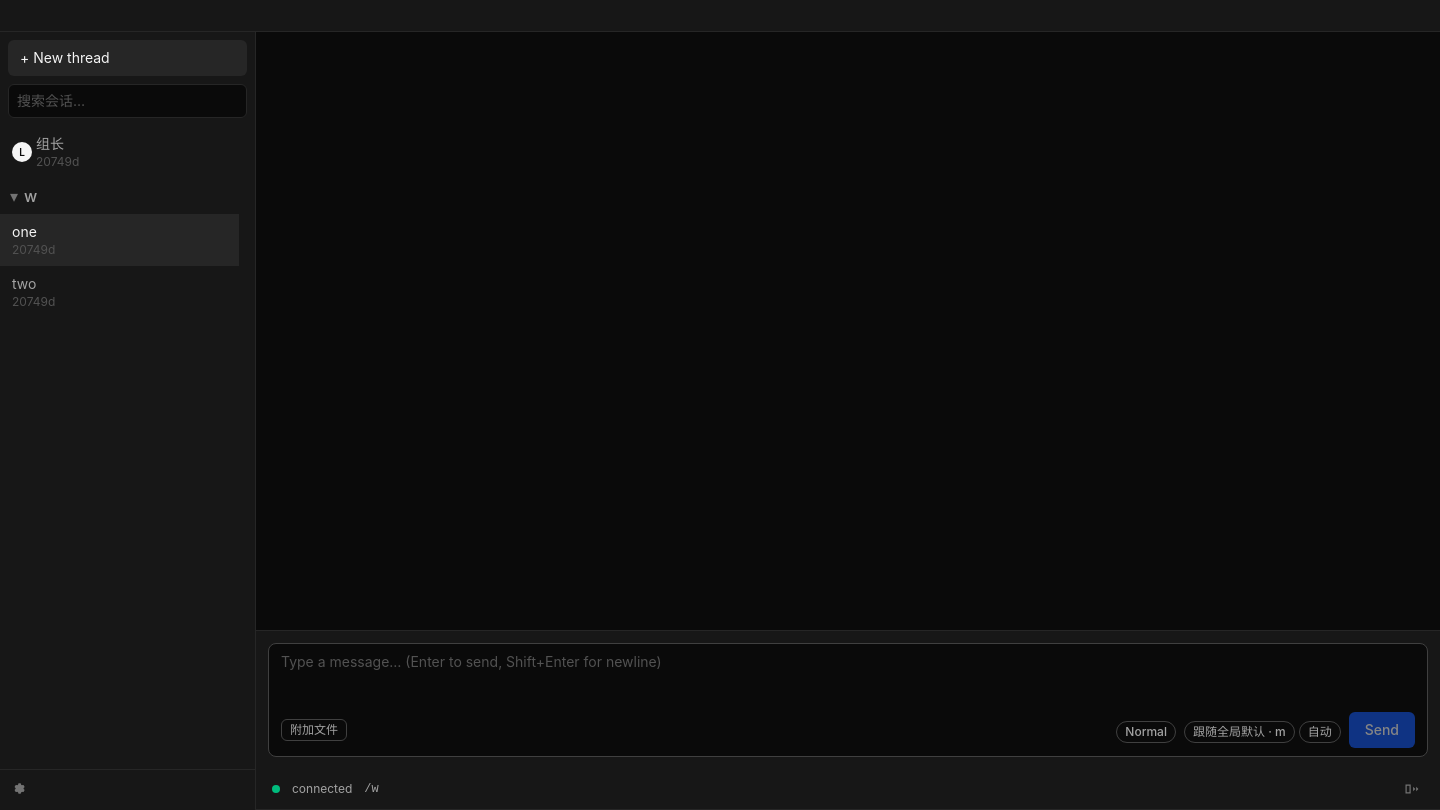
Test case: App parallel threads › does not lose a background thread's timeline when switching
This screenshot has width=1440, height=810.
Click the text "two".
click(24, 284)  # box [12,274,36,294]
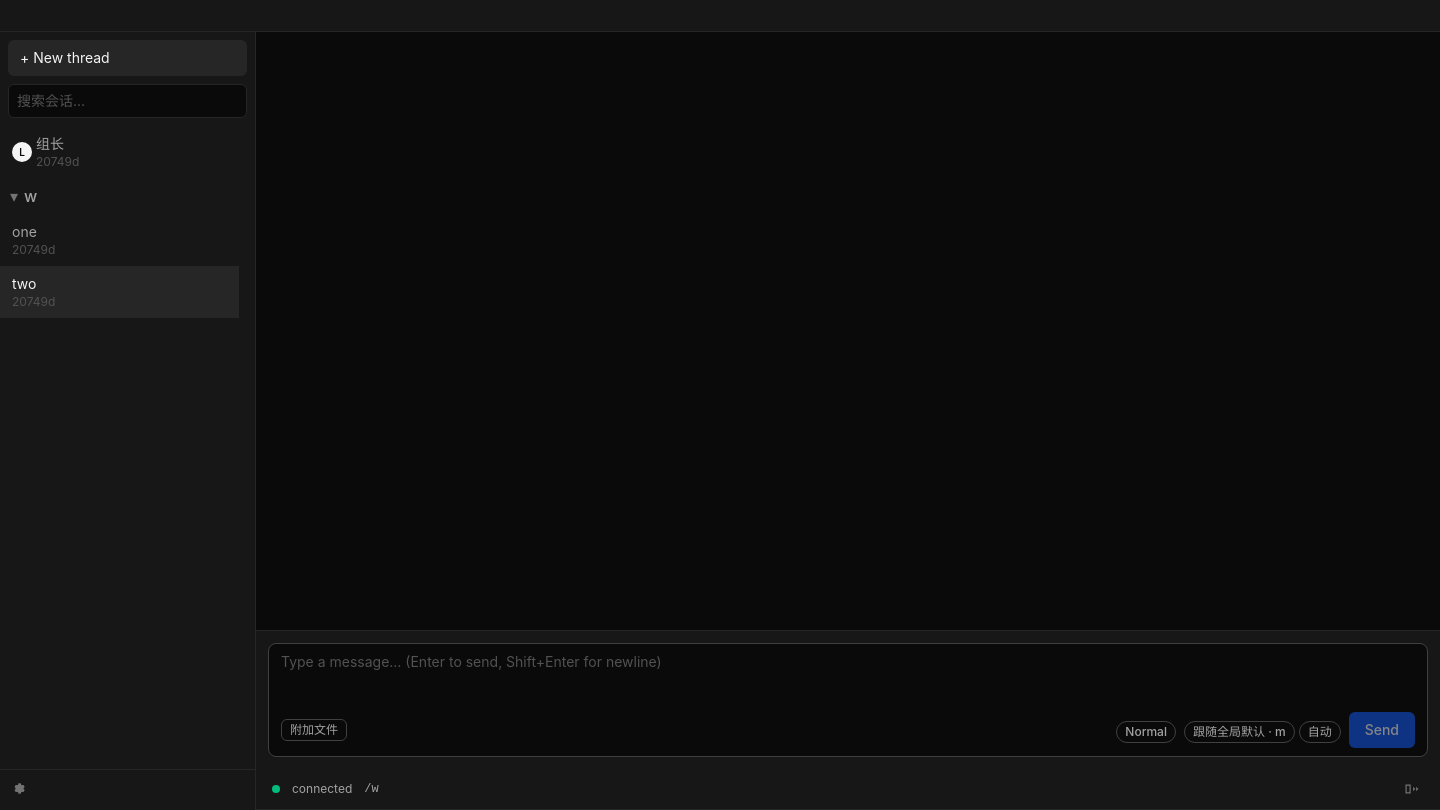
Click the text "one".
click(24, 232)  # box [12,222,37,242]
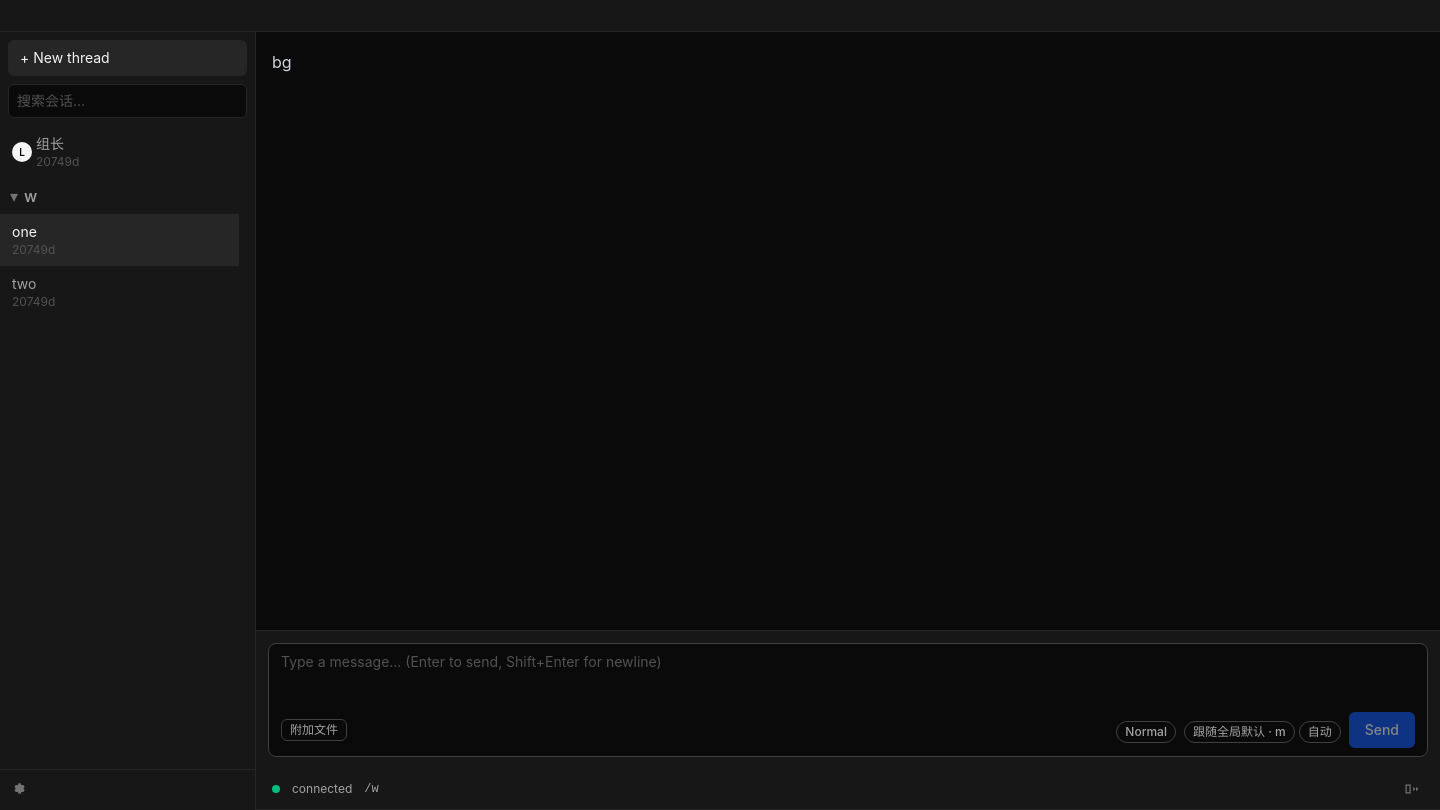
Check: the text "bg" is shown, box [272,48,292,76]
